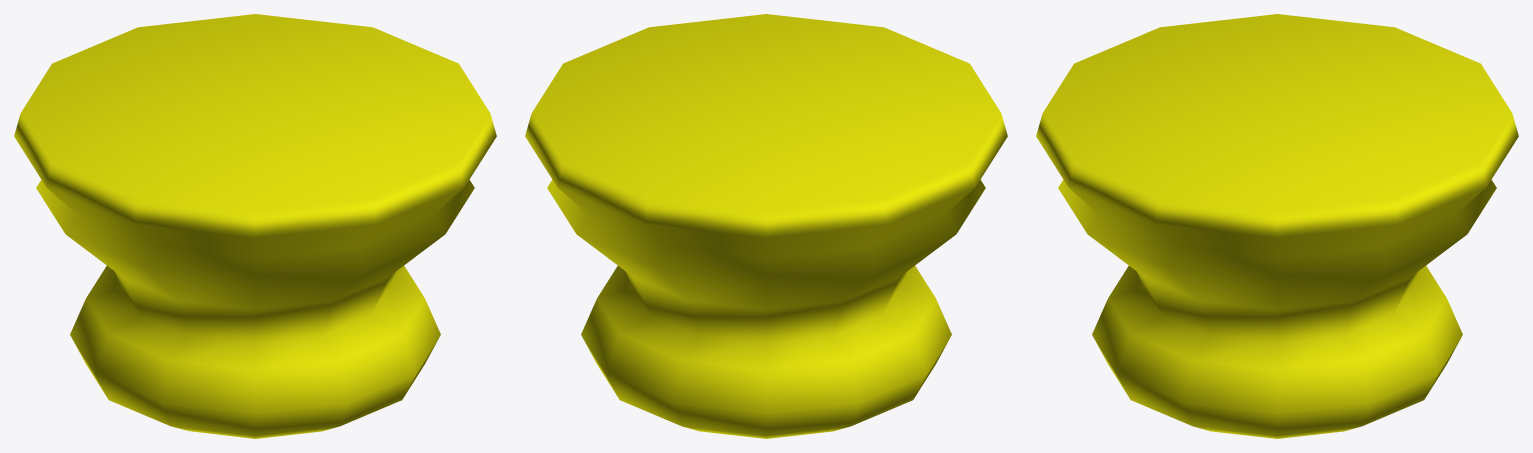
Rendered from B_Pillar_02_C.fbx.
The picture shows the model from 3 angles, left to right: view 1: azimuth 30°, elevation 25°; view 2: azimuth 150°, elevation 25°; view 3: azimuth 270°, elevation 25°; orthographic projection.
Parts seen in each view (by area): view 1: B_Pillar_02_C; view 2: B_Pillar_02_C; view 3: B_Pillar_02_C.
Part boxes in pixels (left/top/right/bottom): B_Pillar_02_C: left=14, top=14, right=496, bottom=438; B_Pillar_02_C: left=525, top=14, right=1007, bottom=438; B_Pillar_02_C: left=1036, top=14, right=1518, bottom=438.
Bounding box in the file's own units: 112 × 68.71 × 112.
